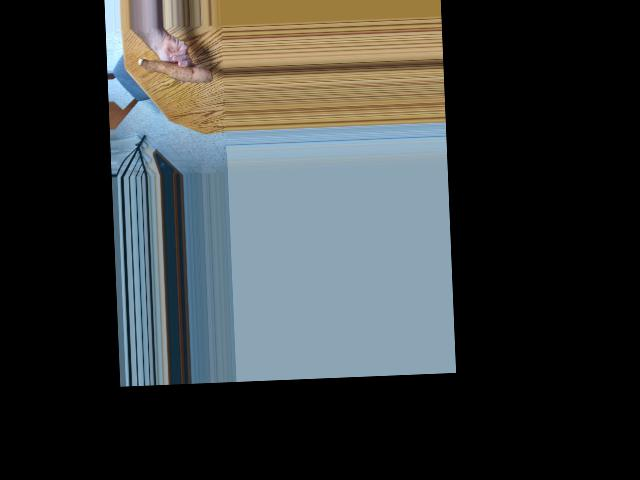sweet_potato: (138, 51, 211, 89)
